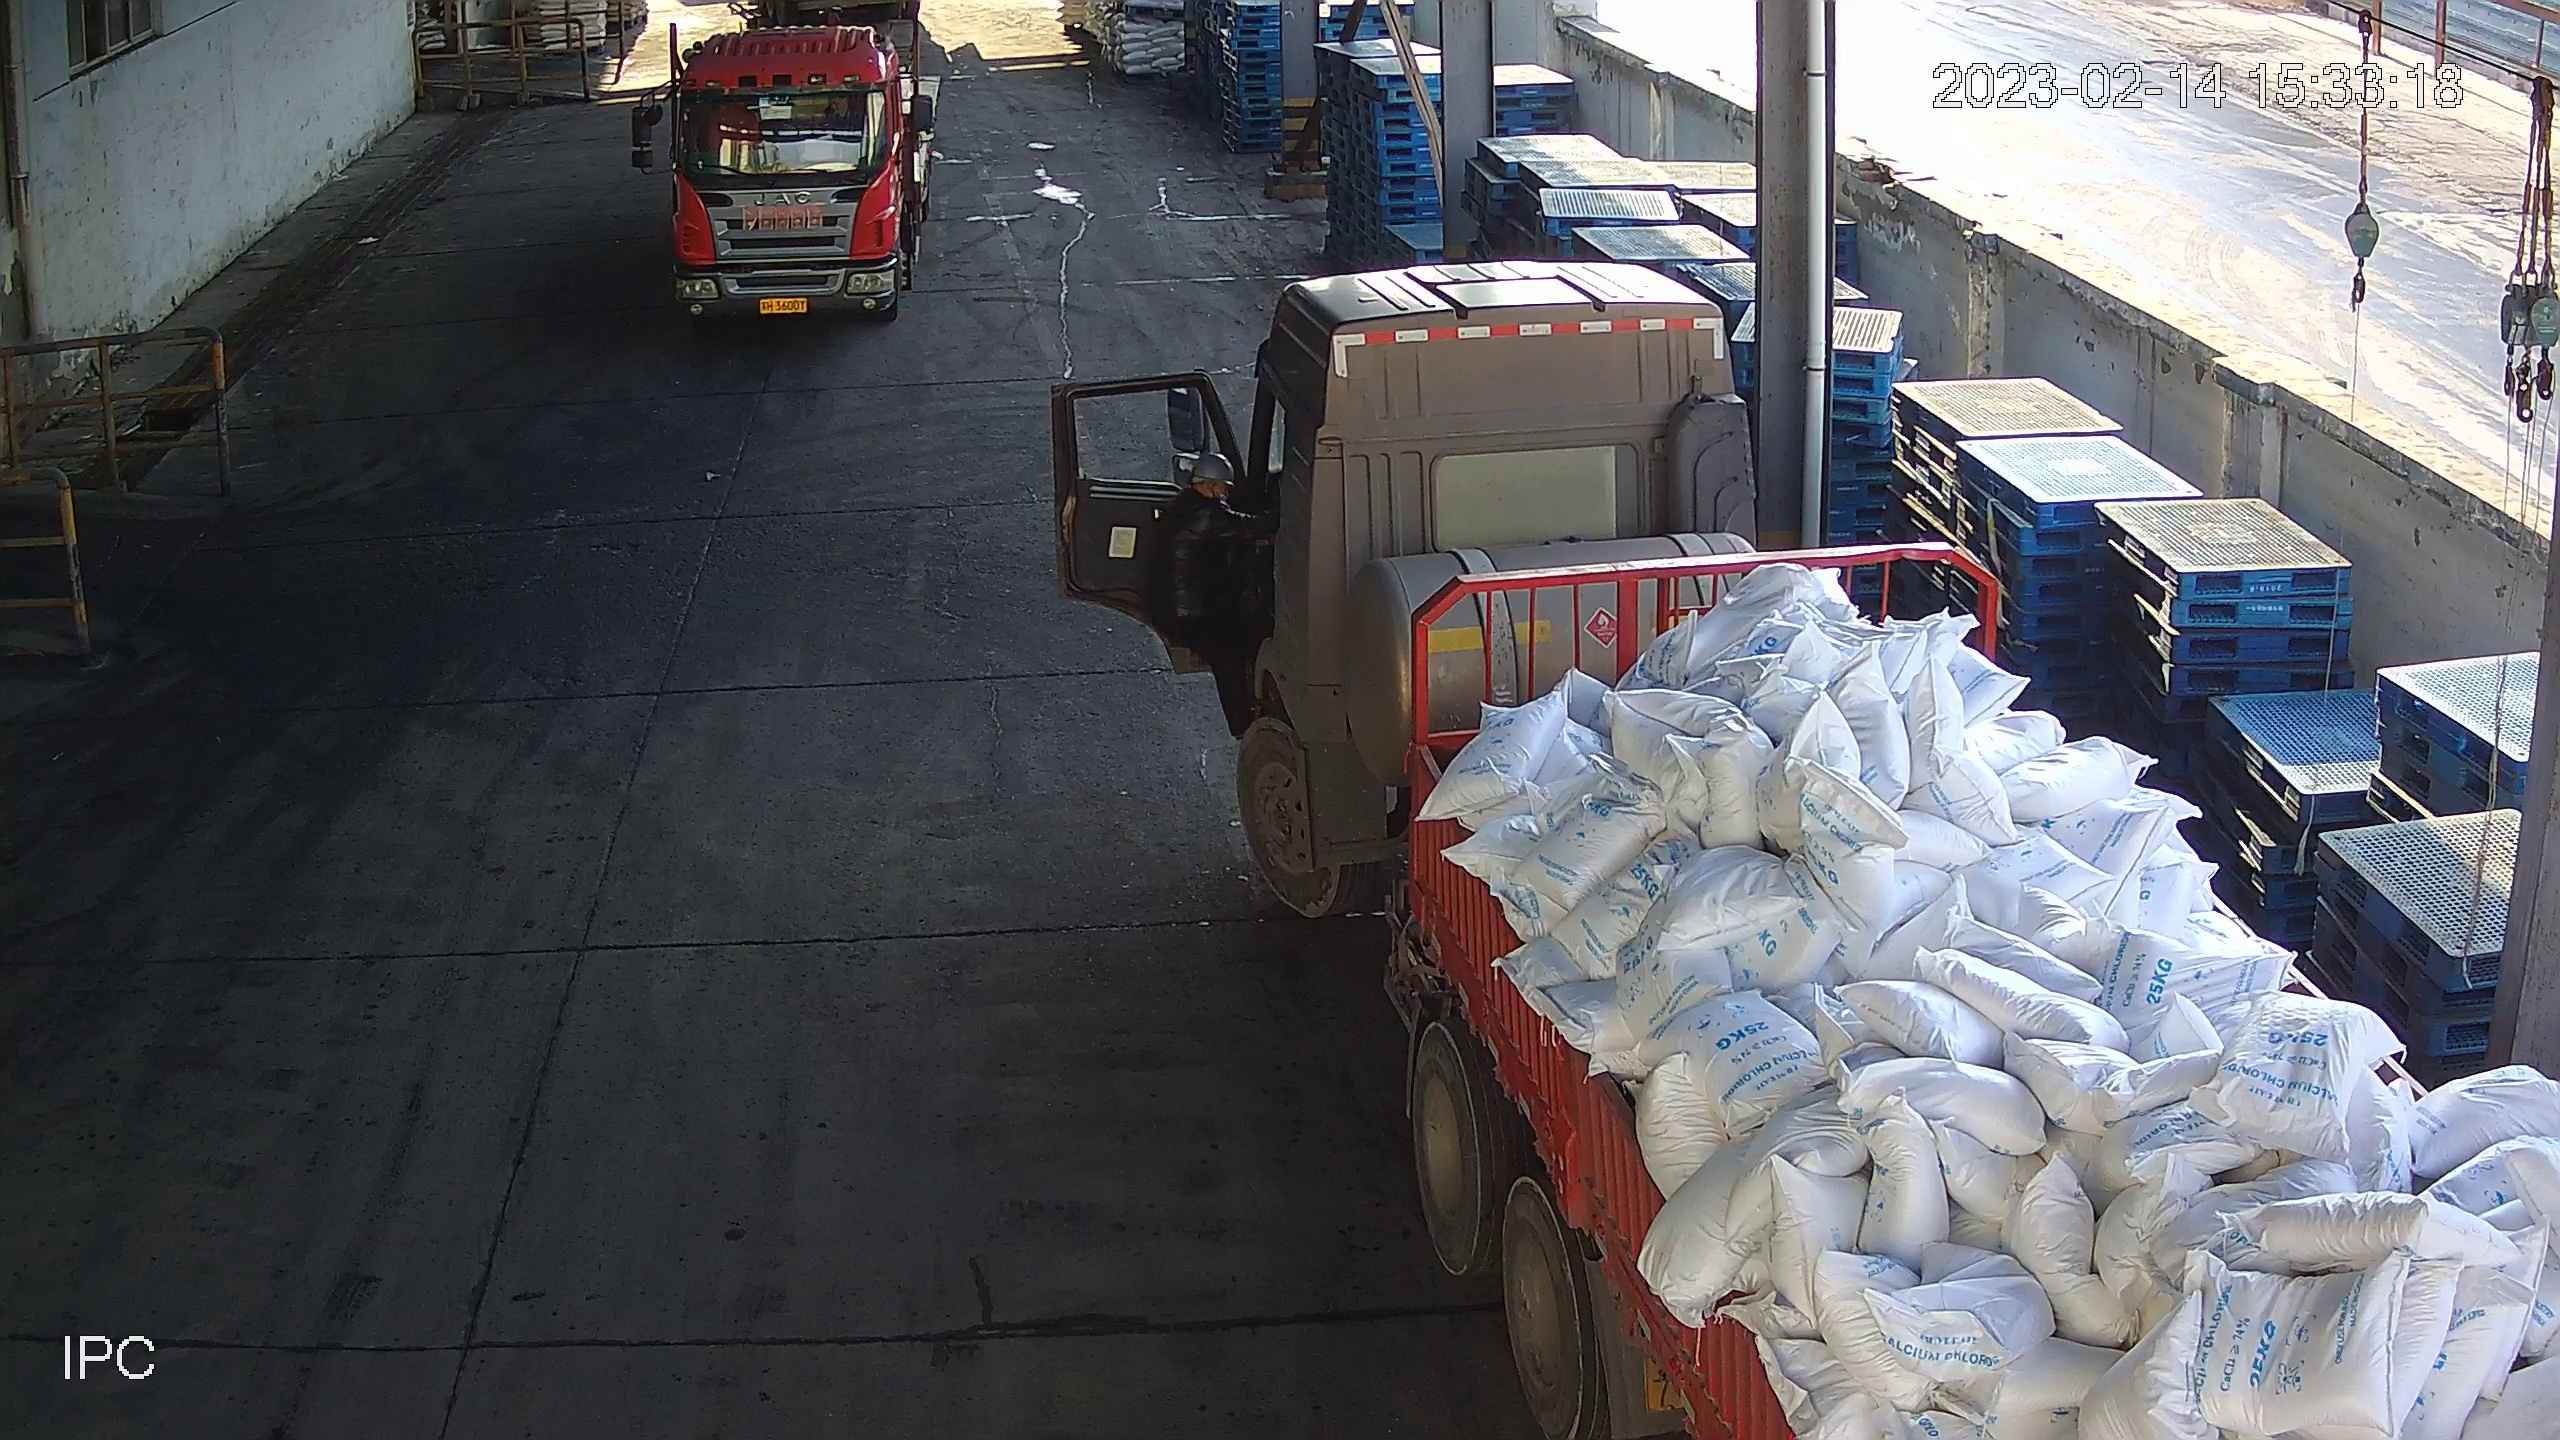head: (1157, 455, 1286, 558)
helmet: (1192, 453, 1238, 486)
people: (1142, 451, 1292, 701)
truck: (1077, 251, 2560, 1440), (631, 3, 968, 323)
